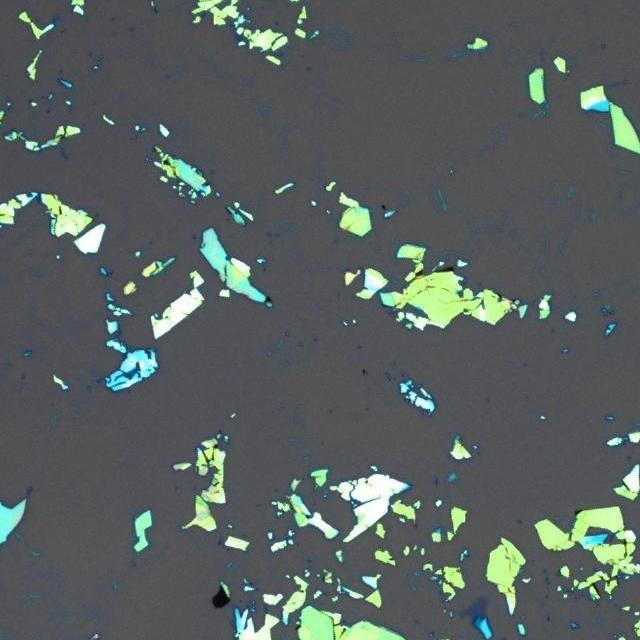monolayer-eWW4: (459, 594, 489, 620)
